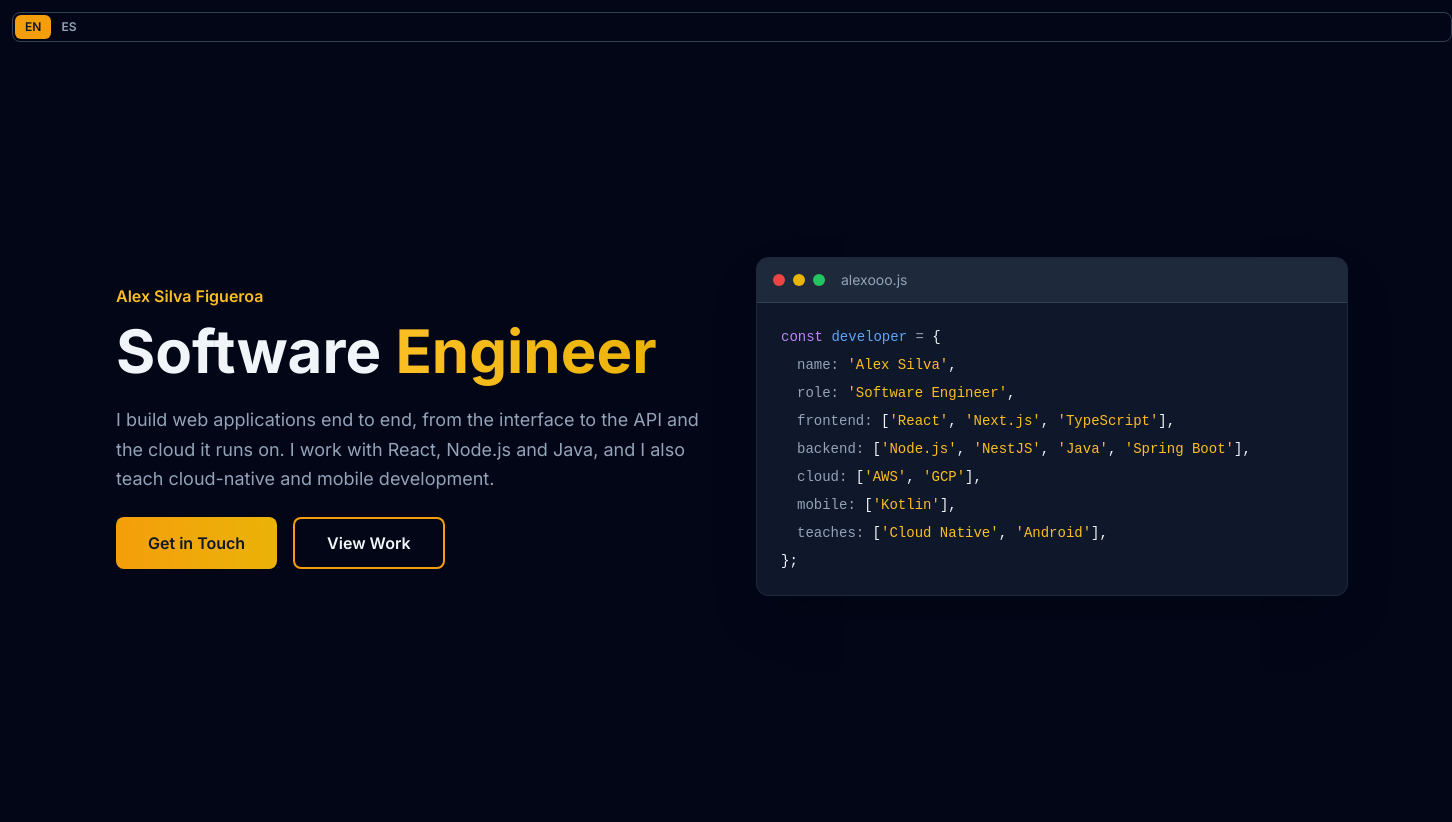
Scenario: LanguageToggle › marca el idioma activo y cambia el contenido al instante
Expected: the button "Get in Touch" is shown, [116,517,277,569]
Click the button with aria-label "Español" at (69, 27), box [51,15,86,39]
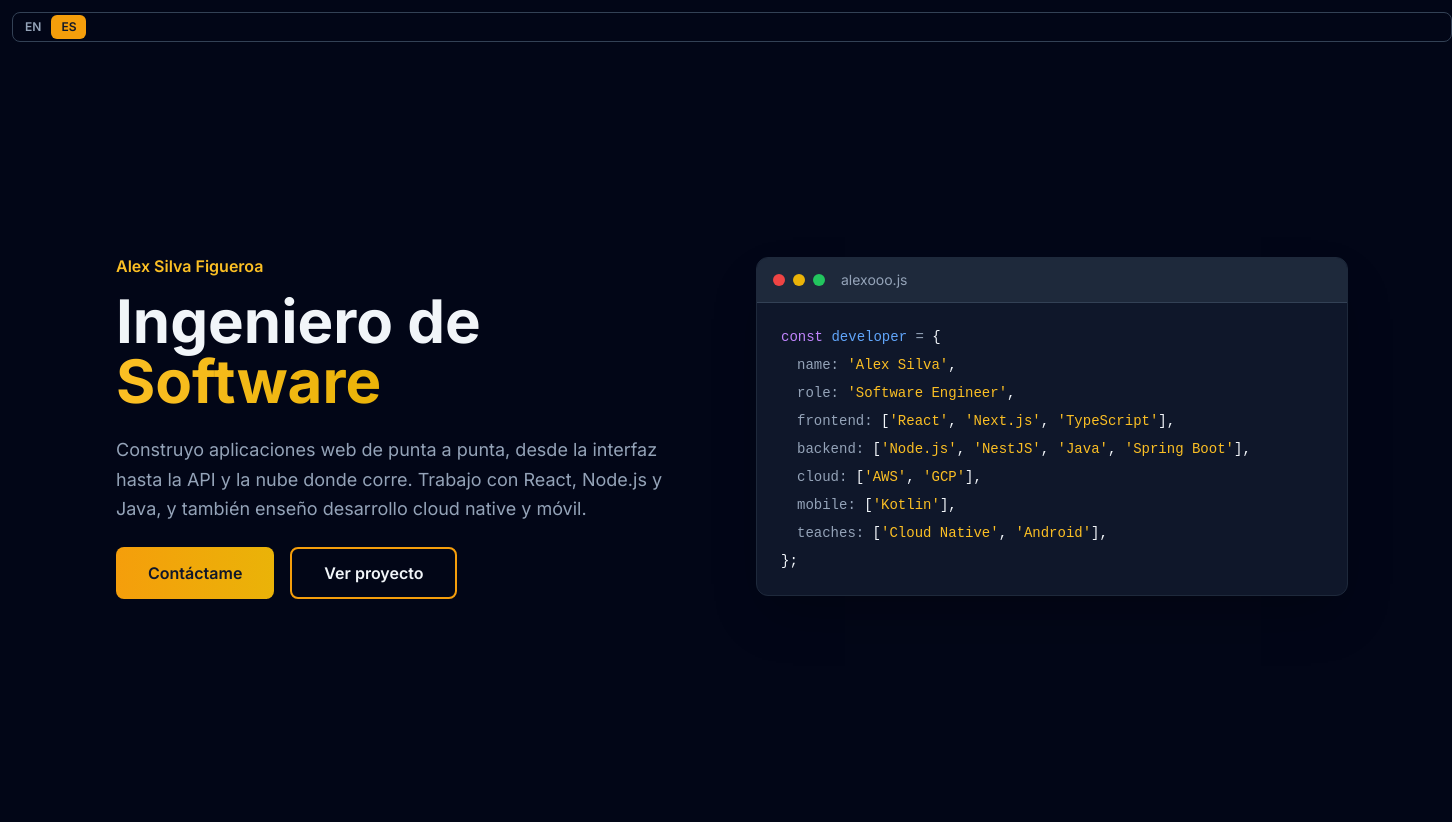
Now the button "Contáctame" is shown, box [116,547,274,599]
Now the button "Get in Touch" is gone
Now the element named "Idioma" is shown, box [12,12,1451,42]
